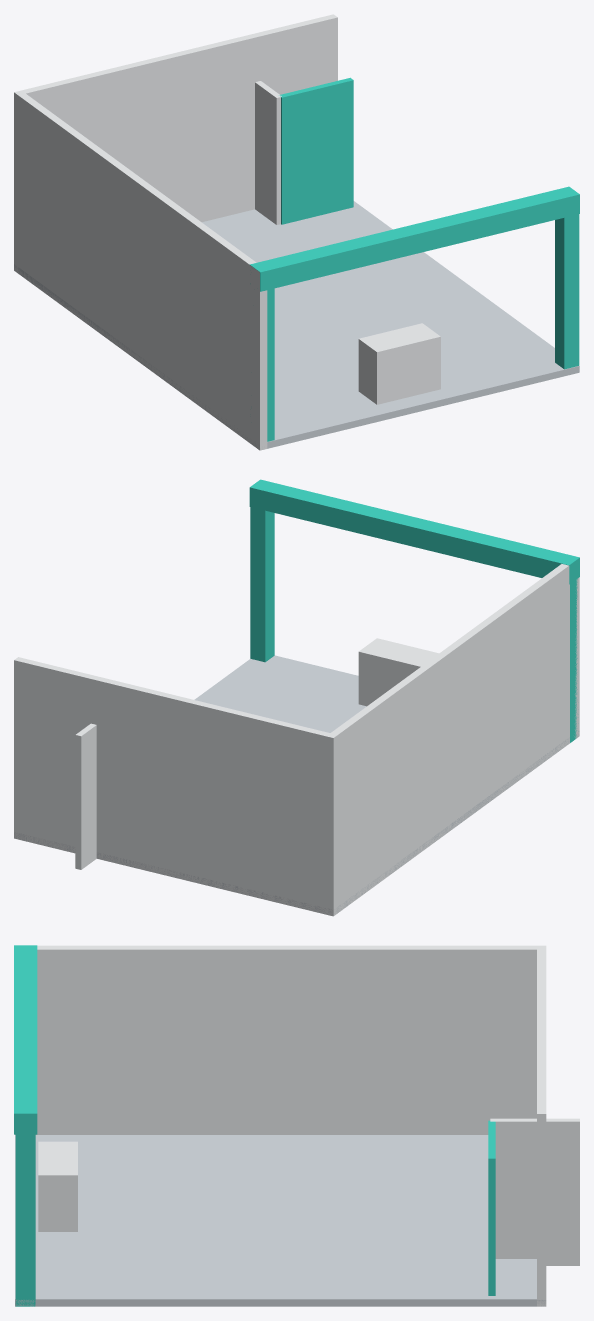
The picture shows the model from 3 angles, top to bottom: view 1: azimuth 30°, elevation 25°; view 2: azimuth 150°, elevation 25°; view 3: azimuth 270°, elevation 25°; orthographic projection. The views are drawn at different scales.
Visible parts, largest first — view 1: Exhibition Booth Concept; view 2: Exhibition Booth Concept; view 3: Exhibition Booth Concept.
Part boxes in pixels (x1,y1,x2,y2): Exhibition Booth Concept: [14, 14, 579, 450]; Exhibition Booth Concept: [14, 479, 579, 916]; Exhibition Booth Concept: [14, 945, 579, 1306].
Size of the model in its own units: 6 by 3.2 by 8.52.
